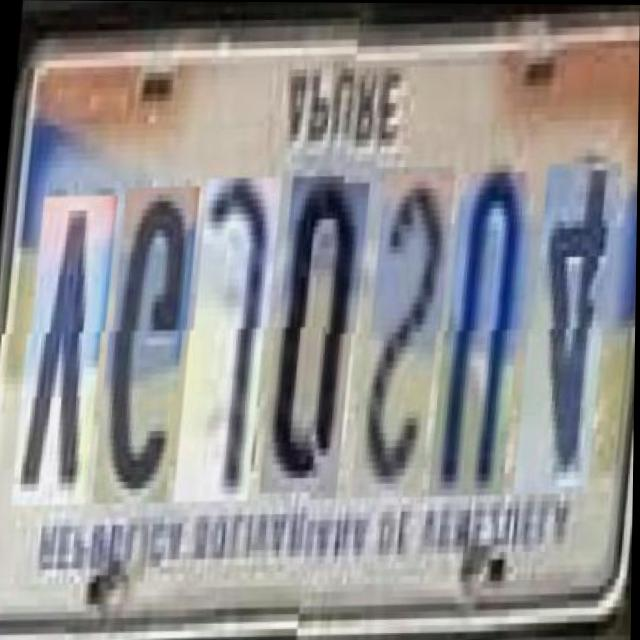0: (261, 176, 363, 495)
4: (515, 158, 614, 491)
g: (95, 186, 192, 505)
j: (176, 178, 274, 503)
s: (354, 168, 448, 493)
u: (432, 167, 529, 492)
v: (13, 196, 110, 506)
